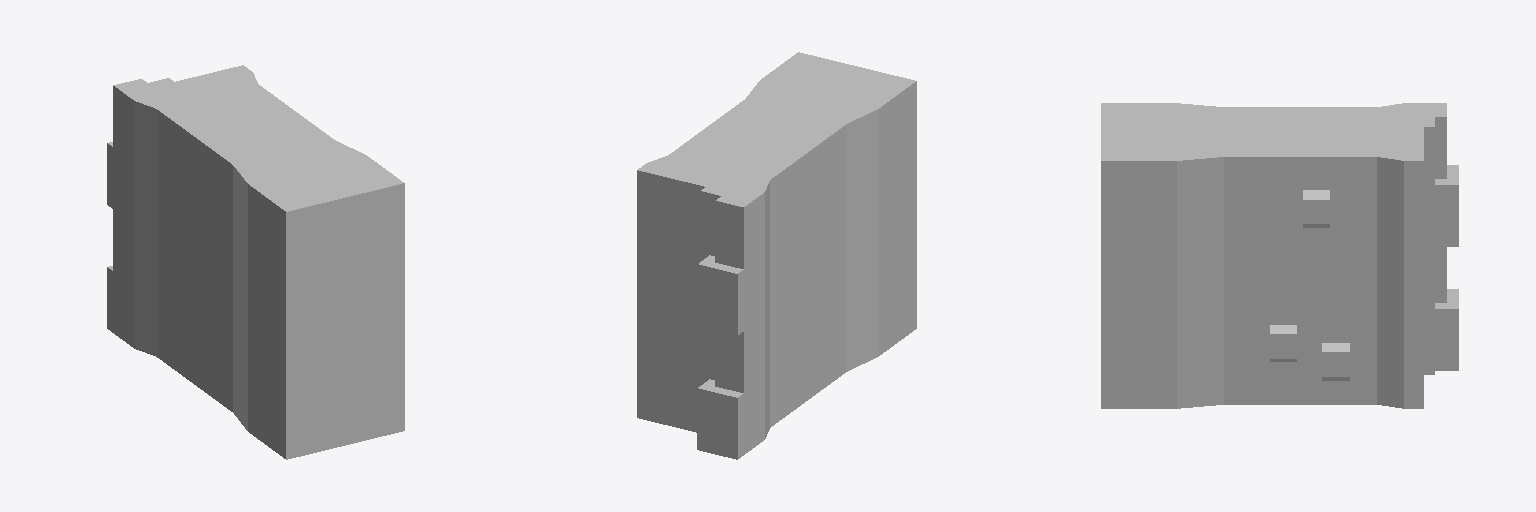
The model's file is wall-narrow.obj.
The picture shows the model from 3 angles: view 1: azimuth 30°, elevation 25°; view 2: azimuth 150°, elevation 25°; view 3: azimuth 270°, elevation 25°; orthographic projection.
Visible parts, largest first — view 1: wall-narrow.011; view 2: wall-narrow.011; view 3: wall-narrow.011.
Part boxes in pixels (left/top/right/bottom): wall-narrow.011: left=107, top=65, right=404, bottom=459; wall-narrow.011: left=637, top=52, right=916, bottom=459; wall-narrow.011: left=1101, top=103, right=1458, bottom=408.
Size of the model in its own units: 0.5 by 1 by 1.31.